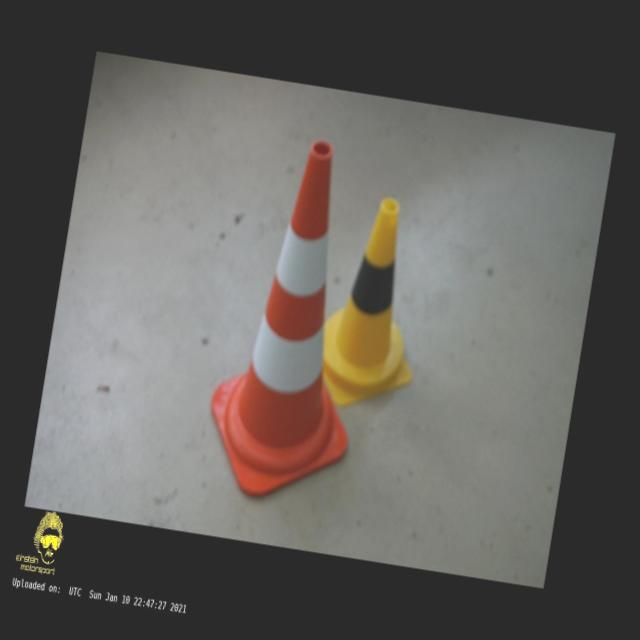large_orange_cone: (198, 129, 394, 509)
yellow_cone: (314, 192, 438, 418)
